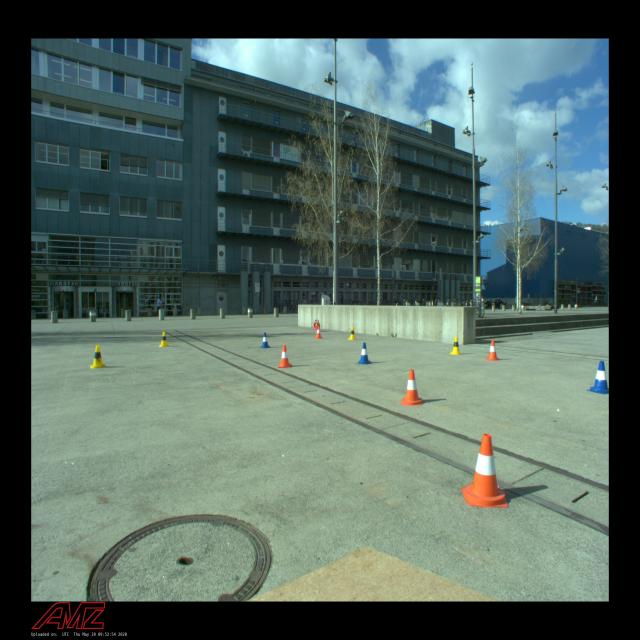blue_cone: (586, 360, 609, 394), (356, 342, 373, 365), (260, 332, 271, 348)
orange_cone: (462, 434, 509, 508), (402, 369, 424, 406), (278, 345, 292, 368), (486, 340, 499, 360), (314, 326, 323, 338)
yellow_cone: (90, 345, 106, 368), (449, 336, 462, 355), (159, 332, 169, 347), (348, 326, 357, 340)
